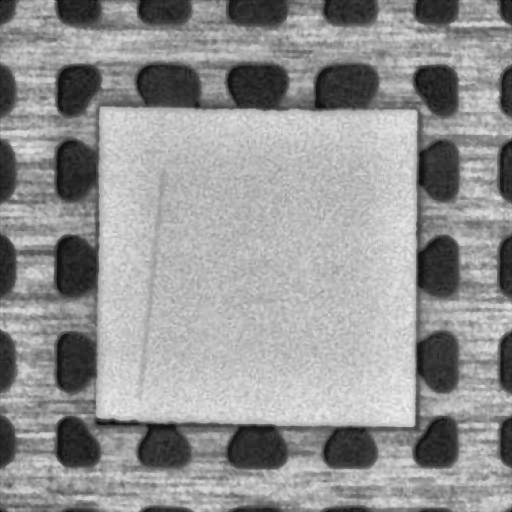DIE_CRACK: (138, 168, 162, 398)
